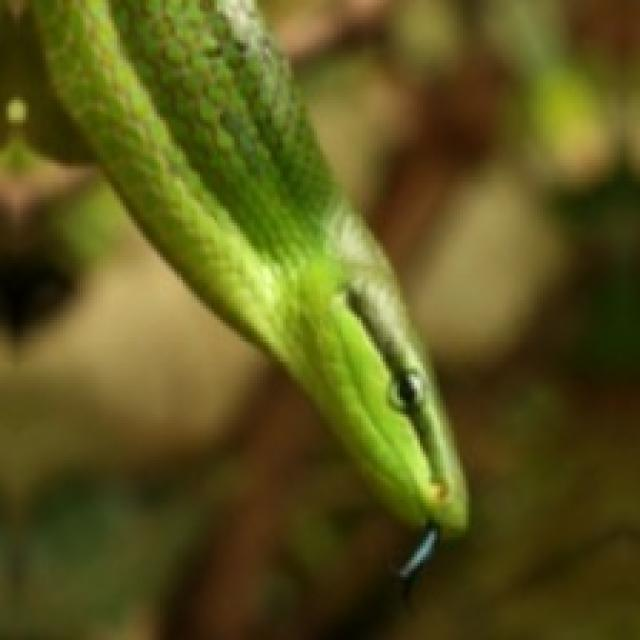red-tailed green ratsnake: (31, 0, 466, 574)
